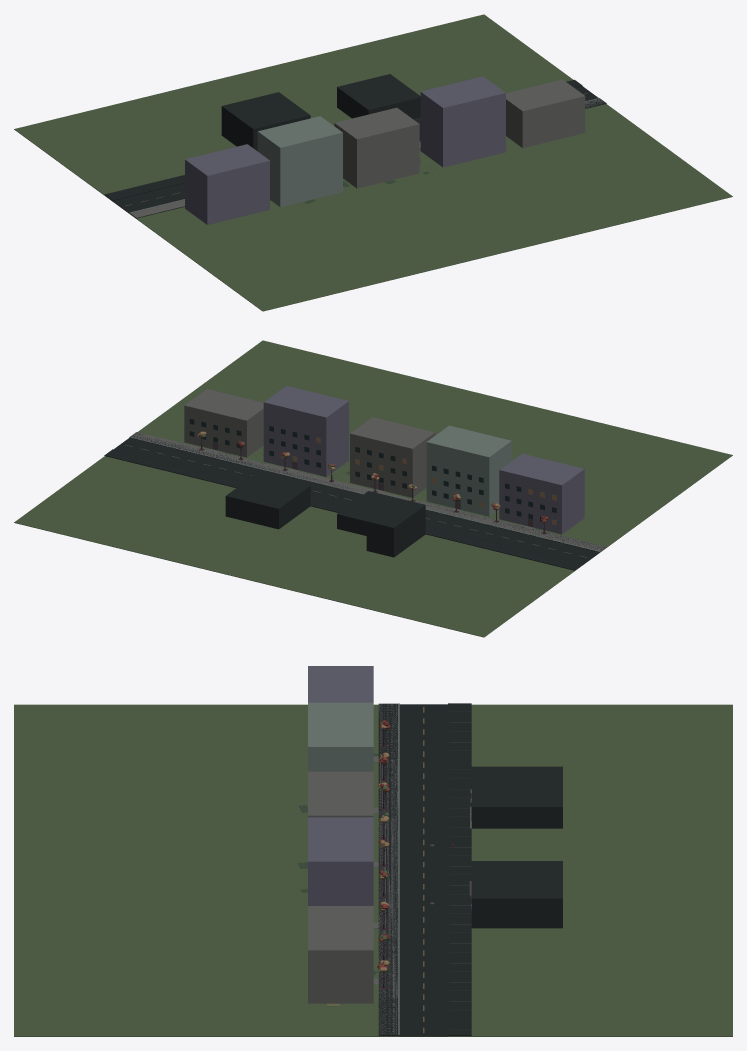
File: casino_strada.glb
3 views of the same model, one above another, from view 1: azimuth 30°, elevation 25°; view 2: azimuth 150°, elevation 25°; view 3: azimuth 270°, elevation 25° (orthographic). The views are drawn at different scales.
Visible parts, largest first — view 1: Strada, Coliziune; view 2: Strada, Coliziune; view 3: Strada, Coliziune.
Part boxes in pixels (x1,y1,x2,y2): Strada: [14, 14, 732, 311]; Coliziune: [104, 74, 606, 218]; Strada: [14, 340, 732, 637]; Coliziune: [104, 432, 604, 570]; Strada: [14, 666, 732, 1036]; Coliziune: [378, 703, 562, 1036].
Size of the model in its own units: 120 by 14.66 by 110.
